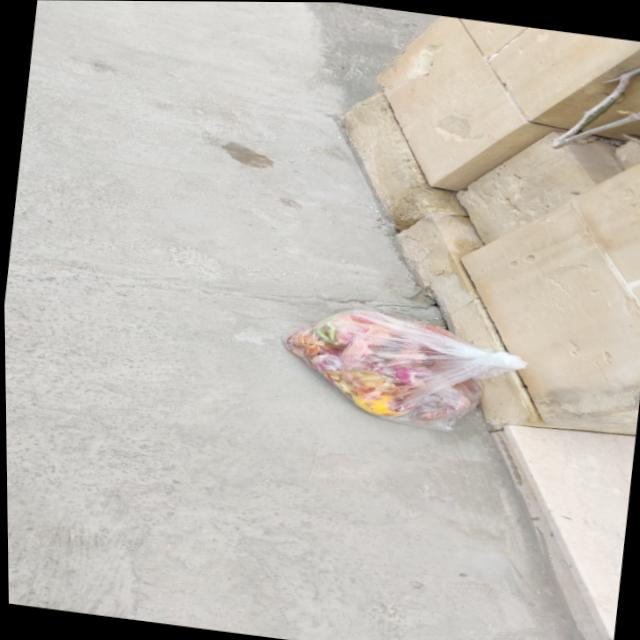Organic Waste -White Bags-: (277, 309, 524, 430)
